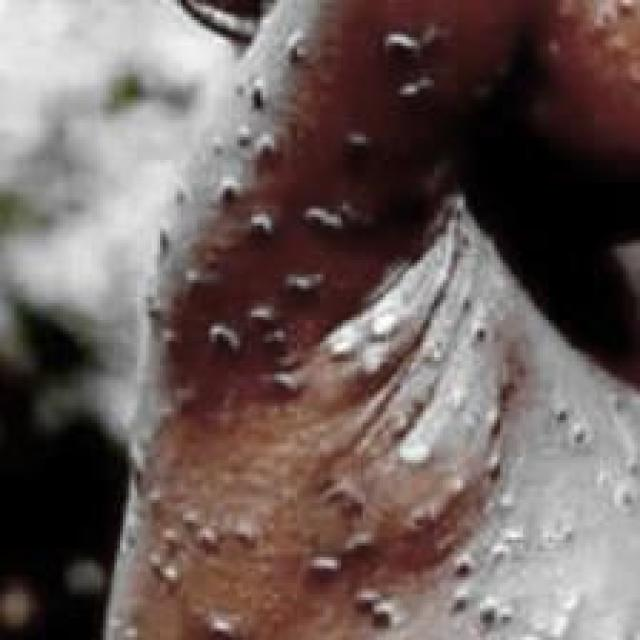monkeypox: (114, 0, 635, 640)
